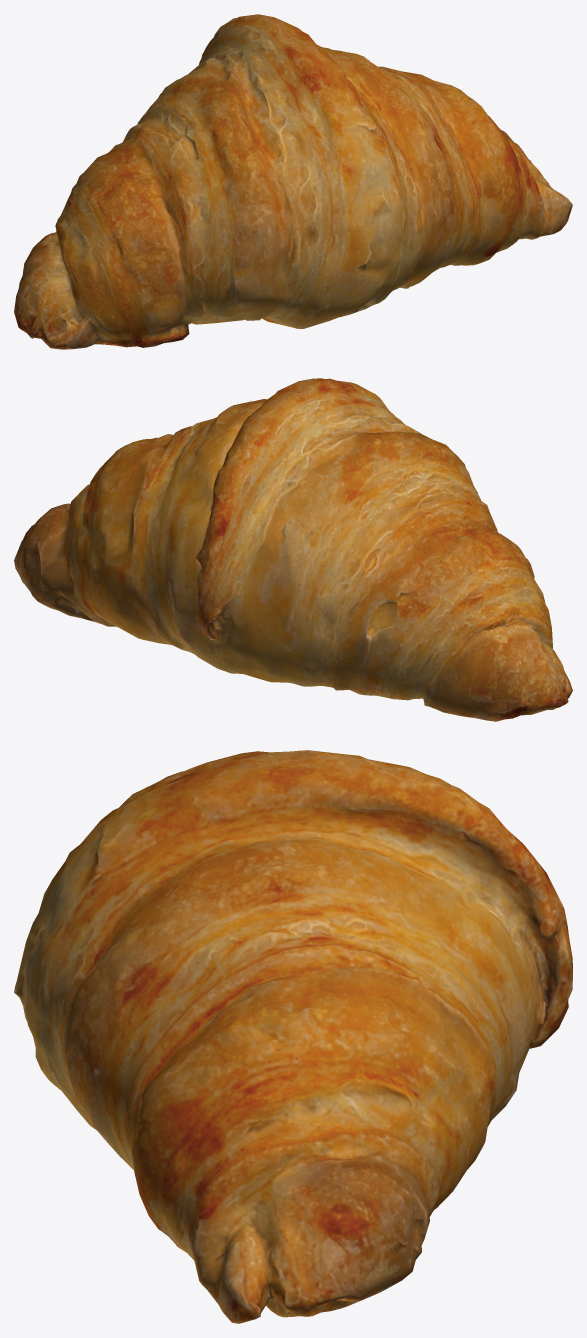
File: SM_Croissant_NN_02a.obj
3 renders of one model, top to bottom at view 1: azimuth 30°, elevation 25°; view 2: azimuth 150°, elevation 25°; view 3: azimuth 270°, elevation 25°, orthographic. The views are drawn at different scales.
Parts seen in each view (by area): view 1: SM_Croissant_NN_02a; view 2: SM_Croissant_NN_02a; view 3: SM_Croissant_NN_02a.
Part boxes in pixels (x1=…): SM_Croissant_NN_02a: x1=14, y1=14, x2=572, y2=349; SM_Croissant_NN_02a: x1=14, y1=378, x2=572, y2=721; SM_Croissant_NN_02a: x1=14, y1=750, x2=572, y2=1323.
Size of the model in its own units: 0.2039 by 0.0925 by 0.1196.
